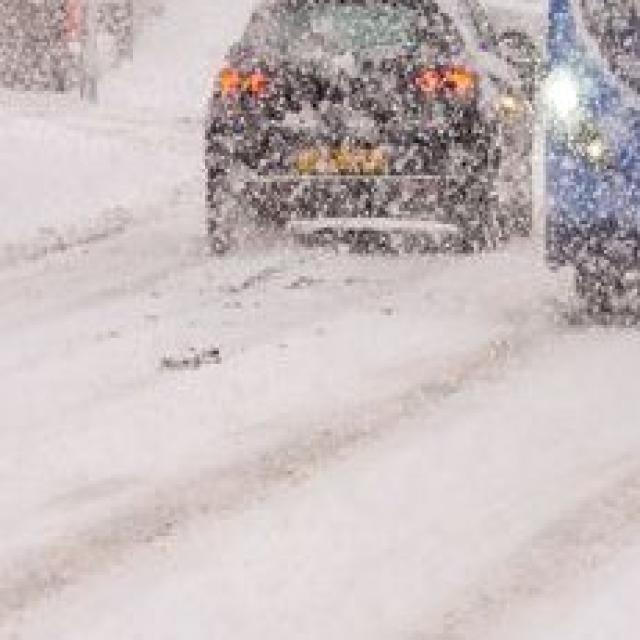bus: (534, 0, 640, 334)
car: (211, 0, 532, 250)
